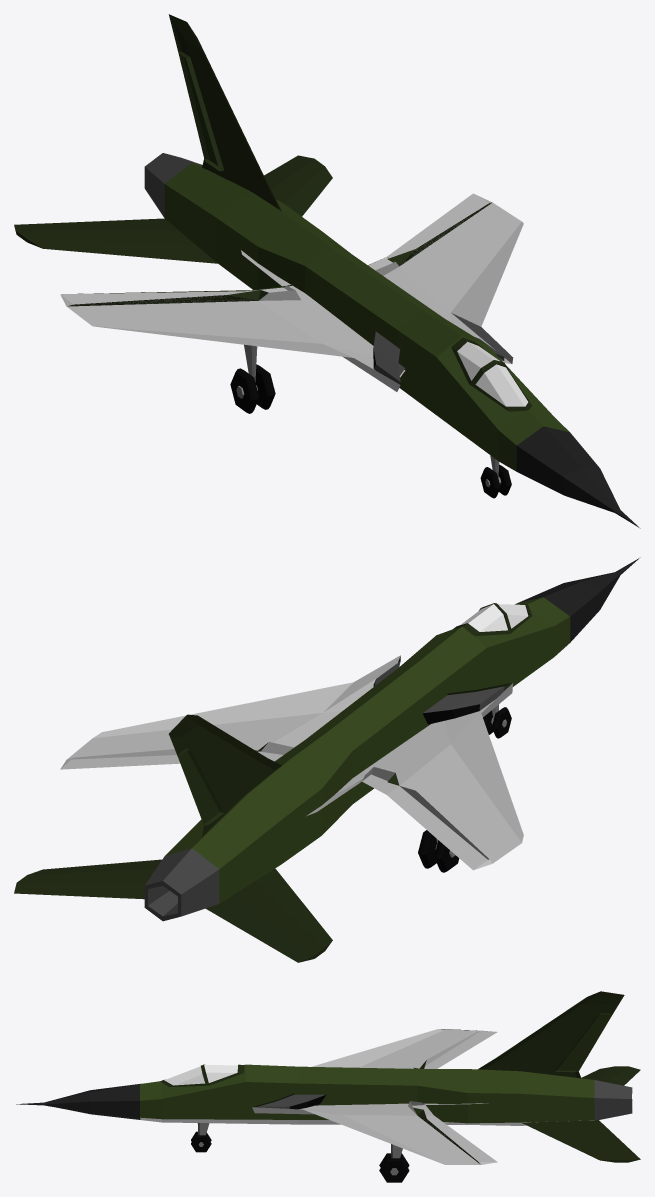
3 renders of one model, top to bottom at view 1: azimuth 30°, elevation 25°; view 2: azimuth 150°, elevation 25°; view 3: azimuth 270°, elevation 25°, orthographic. The views are drawn at different scales.
Visible parts, largest first — view 1: Cylinder, Plane, Plane.001, Plane.002, Plane.003, Cylinder.001, Cylinder.005, Plane.005, Cylinder.004; view 2: Cylinder, Plane, Plane.001, Plane.002, Plane.003, Cylinder.001, Plane.005, Cylinder.005, Cylinder.004, Plane.004; view 3: Cylinder, Plane, Plane.002, Plane.001, Plane.003, Cylinder.001, Plane.005, Cylinder.005, Cylinder.004.
Boxes of the visible parts, x1,y1,x2,y2 form: Cylinder: (144,153,640,528); Plane: (67,202,523,391); Plane.001: (14,155,332,263); Plane.002: (168,14,281,211); Plane.003: (60,193,492,306); Cylinder.001: (451,337,532,411); Cylinder.005: (230,344,275,413); Plane.005: (178,52,219,171); Cylinder.004: (480,455,511,498); Cylinder: (144,557,640,921); Plane: (67,655,523,863); Plane.001: (14,859,332,962); Plane.002: (169,714,281,837); Plane.003: (60,749,492,870); Cylinder.001: (452,603,532,635); Plane.005: (178,749,223,825); Cylinder.005: (418,830,459,872); Cylinder.004: (483,704,511,738); Plane.004: (257,743,398,794); Cylinder: (16,1064,632,1125); Plane: (252,1029,488,1164); Plane.002: (478,991,624,1078); Plane.001: (522,1066,640,1162); Plane.003: (419,1030,497,1164); Cylinder.001: (160,1064,244,1087); Plane.005: (555,1014,612,1072); Cylinder.005: (379,1144,409,1182); Cylinder.004: (191,1122,211,1152).
Bounding box in the file's own units: 200 × 109 × 390.
